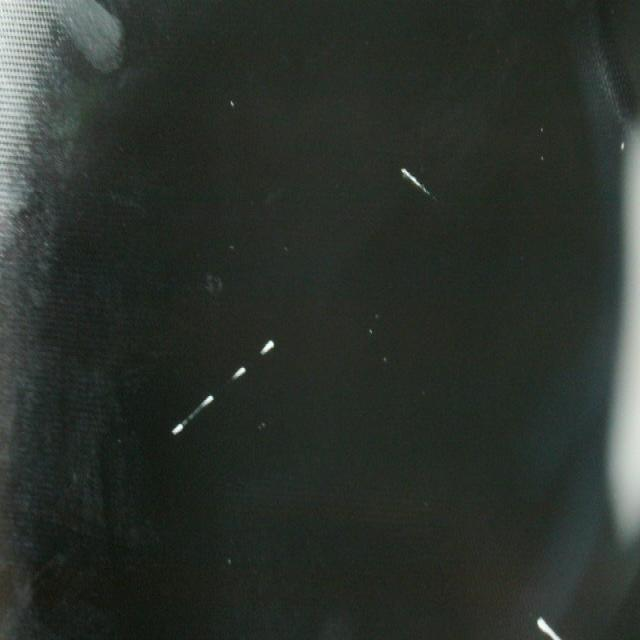scratch: (170, 332, 281, 446), (394, 158, 440, 212), (526, 606, 567, 640)
